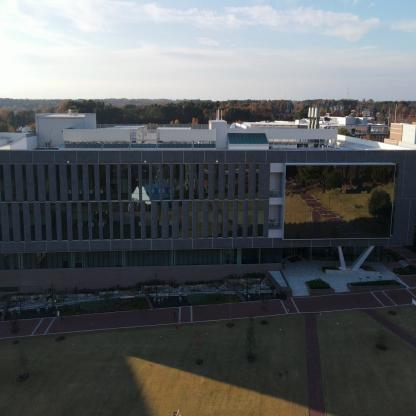Fitts- Woolard: (0, 84, 415, 308)
